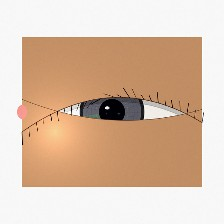hemorrhage_spot: (79, 85, 154, 144)
